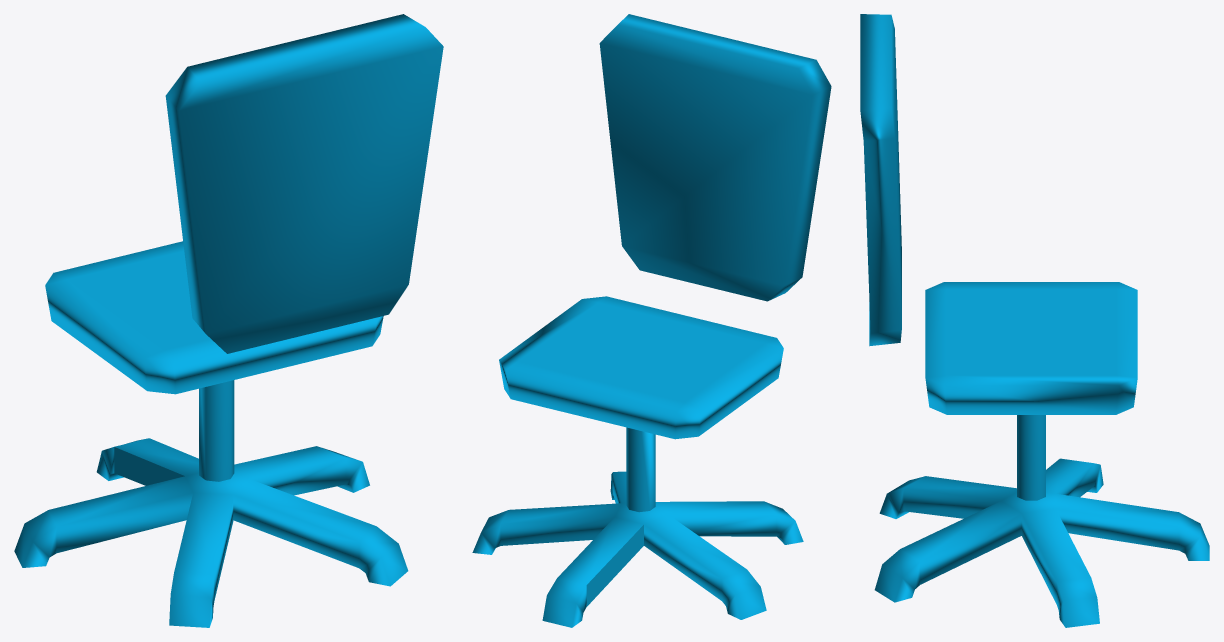
File: Chair_03_Lod2.fbx
3 views of the same model, side by side, from view 1: azimuth 30°, elevation 25°; view 2: azimuth 150°, elevation 25°; view 3: azimuth 270°, elevation 25° (orthographic). The views are drawn at different scales.
Visible parts, largest first — view 1: Chair_03_Lod2; view 2: Chair_03_Lod2; view 3: Chair_03_Lod2.
Boxes of the visible parts, bbox=[...] form: Chair_03_Lod2: bbox=[14, 14, 443, 627]; Chair_03_Lod2: bbox=[472, 14, 831, 627]; Chair_03_Lod2: bbox=[860, 14, 1209, 627].
Bounding box in the file's own units: 58.39 × 90.45 × 58.16.
